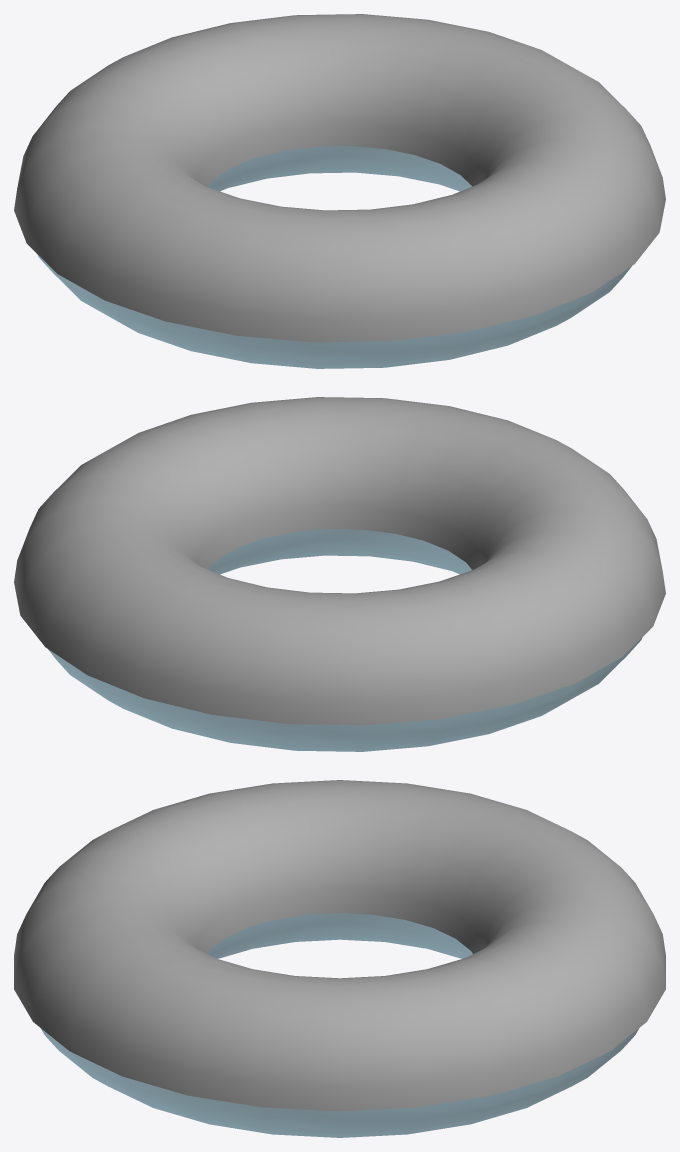
The model's file is Pool floatie.fbx.
3 renders of one model, top to bottom at view 1: azimuth 30°, elevation 25°; view 2: azimuth 150°, elevation 25°; view 3: azimuth 270°, elevation 25°, orthographic.
Visible parts, largest first — view 1: pTorus1; view 2: pTorus1; view 3: pTorus1.
Boxes of the visible parts, x1,y1,x2,y2 form: pTorus1: (14, 14, 665, 368); pTorus1: (14, 397, 665, 751); pTorus1: (14, 780, 665, 1137).
Bounding box in the file's own units: 10.13 × 2.43 × 10.05.
